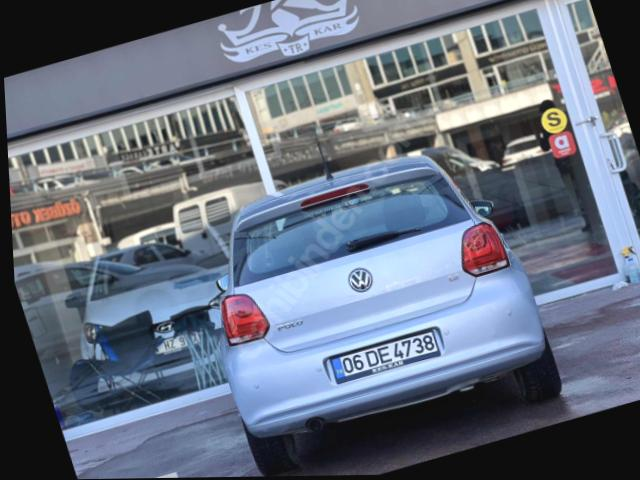plaka: (327, 328, 443, 383)
